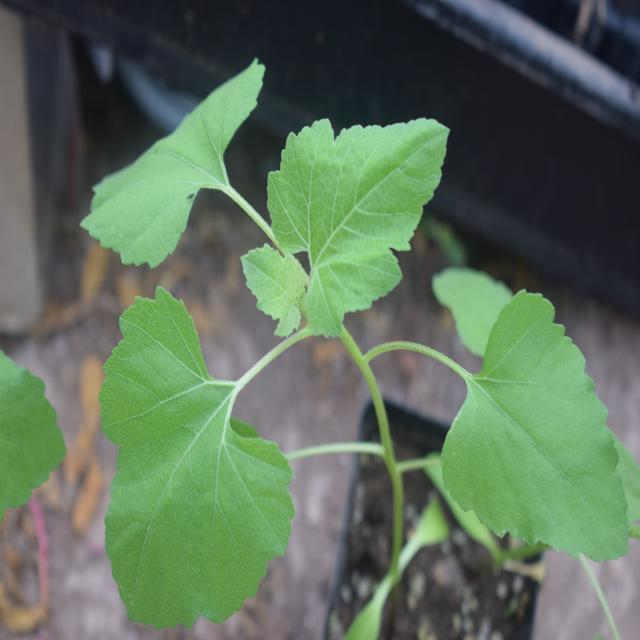cocklebur: (81, 68, 618, 592)
